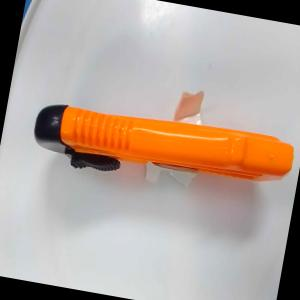estilete: (27, 94, 296, 204)
